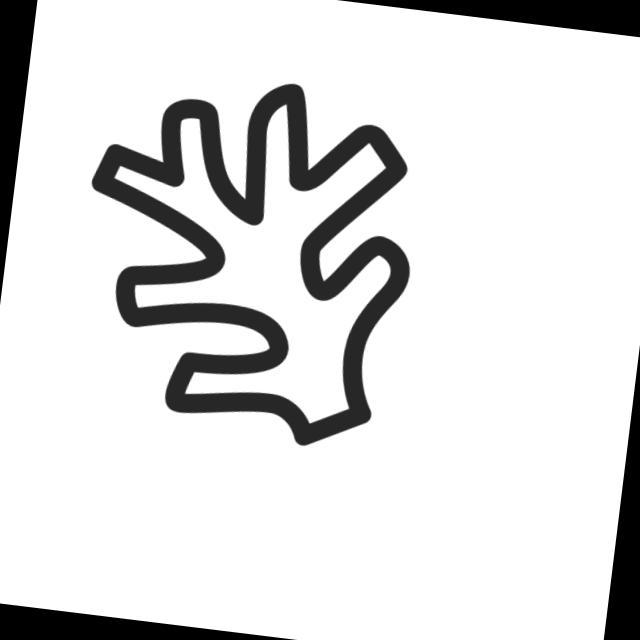coral: (57, 57, 439, 465)
